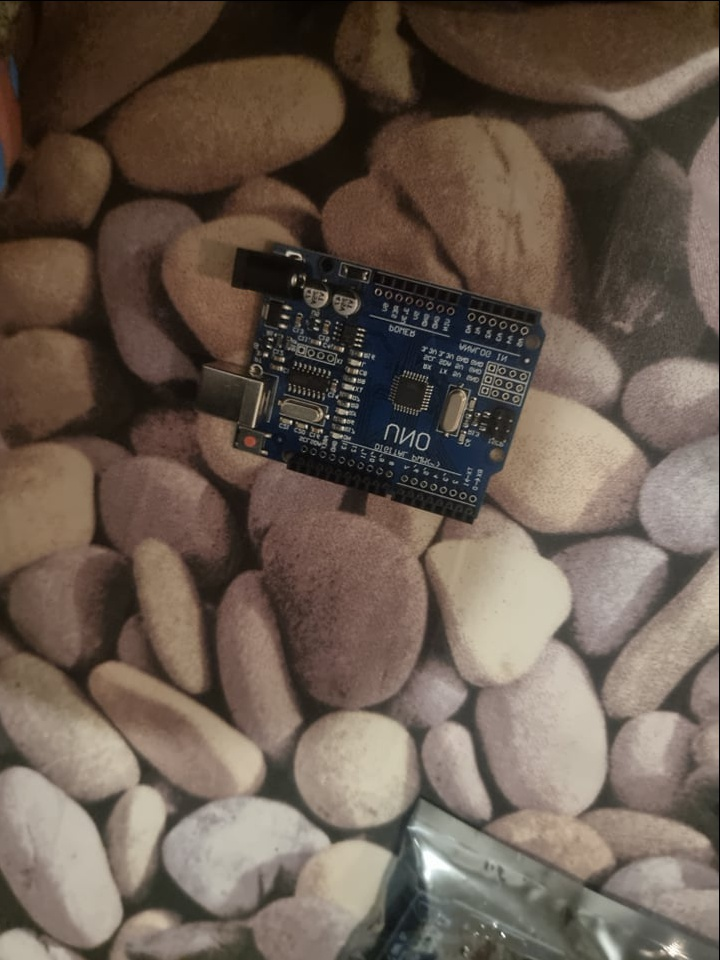UNO R3: (194, 238, 546, 526)
